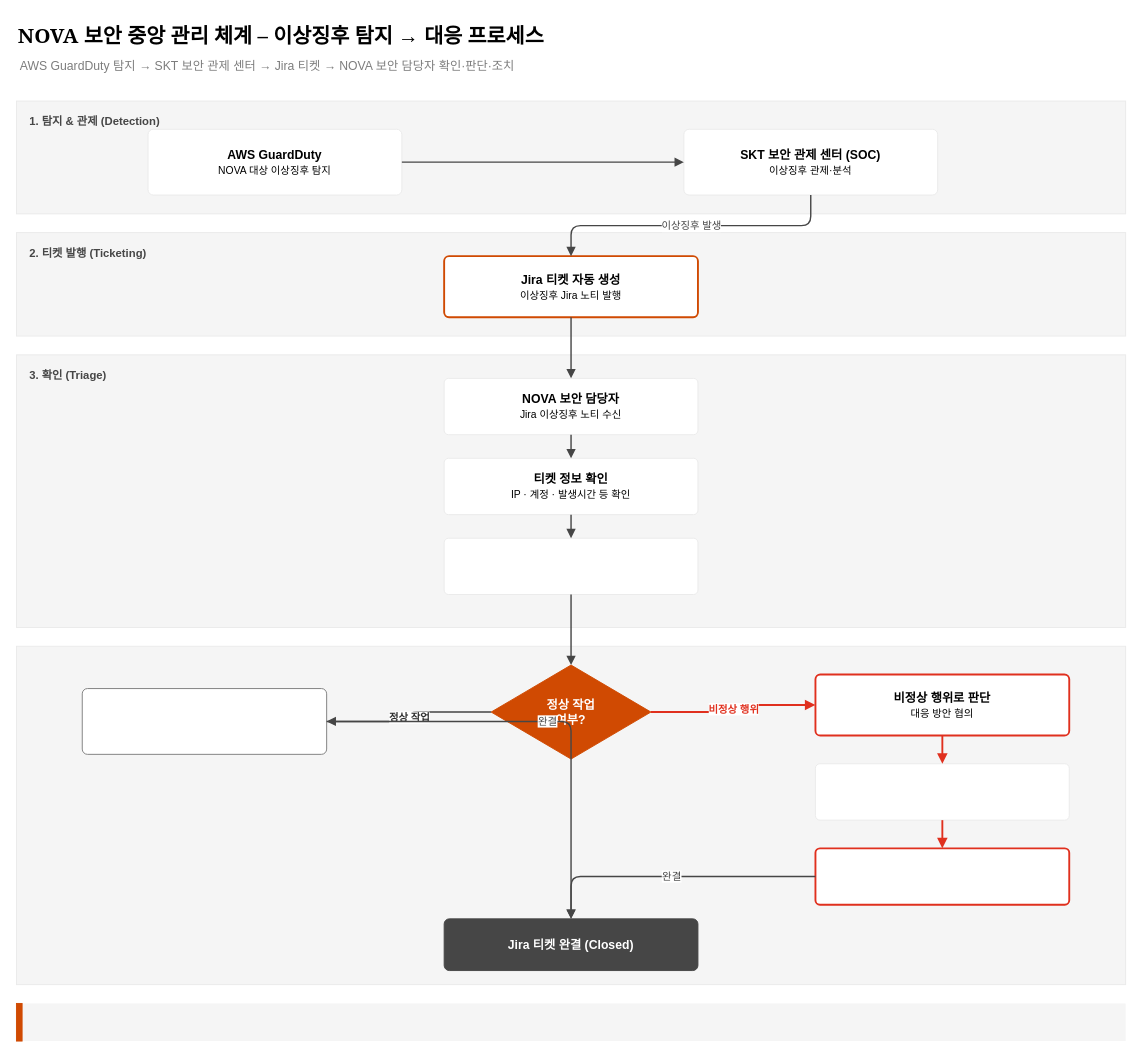
This 1142x1058 diagram has some shape labels left out. Each missing label, with the box of its shape:
4. 판단 & 조치 (Decision & Resolution): (16, 645, 1126, 985)
작업 담당자에게 확인 정상 작업 여부 문의: (443, 537, 698, 595)
정상 작업 (예정된 작업) ‘특이사항 없음’ 완결 조치 요청: (81, 688, 327, 754)
조치 수행 협의된 대응 방안 실행: (815, 763, 1069, 820)
조치 완료까지 추적 관리 Tracking & Follow-up: (814, 847, 1070, 905)
핵심: 모든 이상징후는 Jira 티켓으로 단일화되어, ‘확인 → 판단 → 조치 완료’까지 추적·관리된다.: (16, 1003, 1125, 1041)
